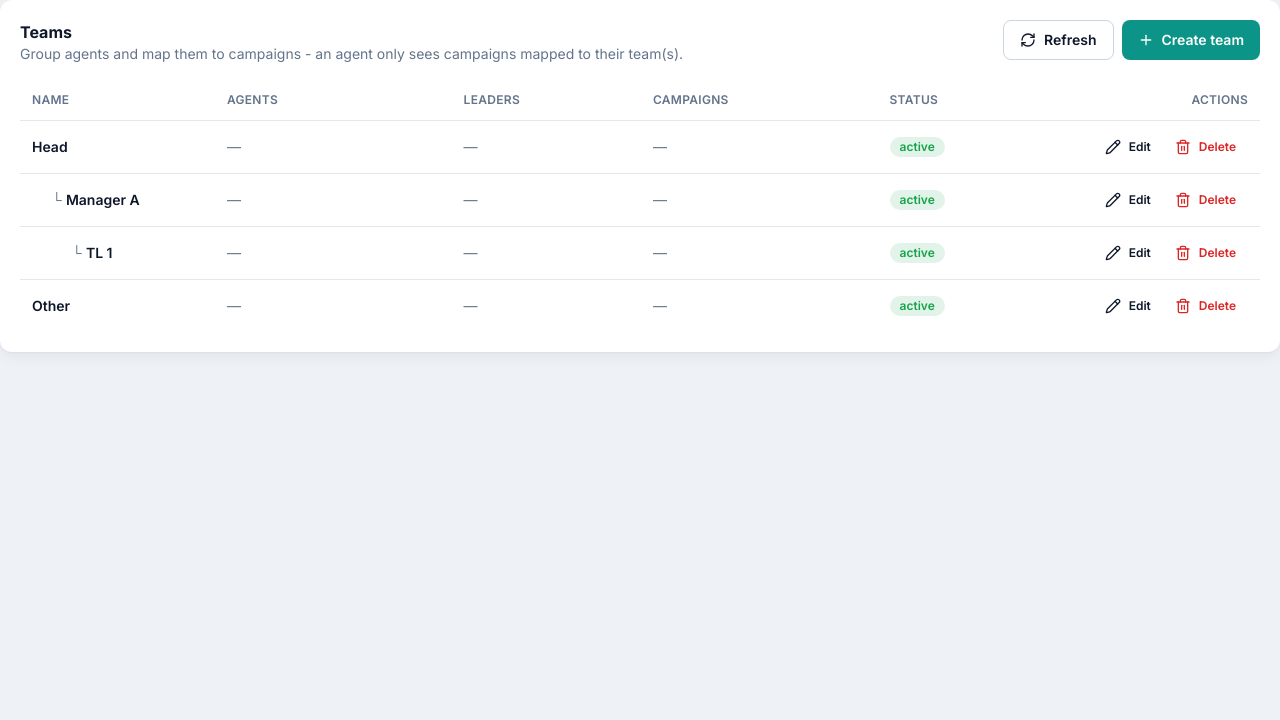
Scenario: Teams › shows teams as a tree and puts a team under a parent
This screenshot has width=1280, height=720.
Expected: the text "Head" is shown, [32, 136, 68, 156]
Step 1. Click the button with aria-label "Edit Manager A" → (1128, 200), box [1093, 184, 1163, 216]
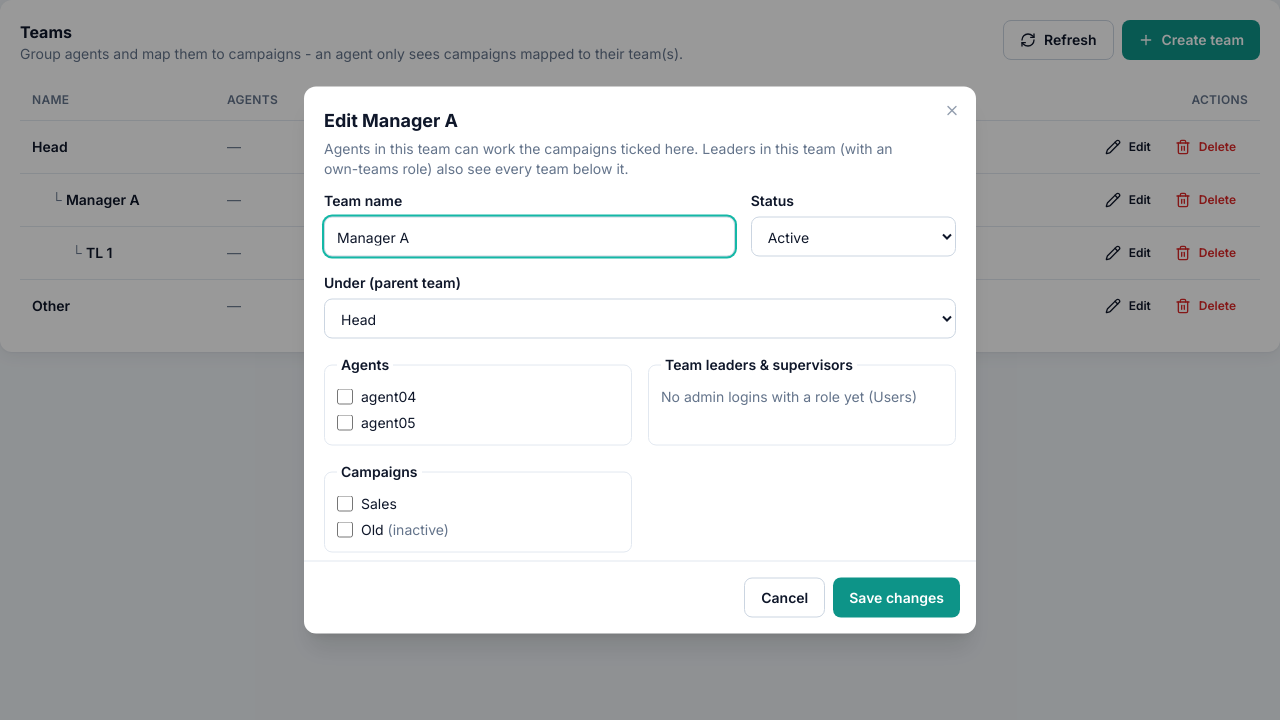
Now the dropdown labelled "Under (parent team)" shows "Head"
Step 2. Select "Other" in the dropdown labelled "Under (parent team)" → (640, 318), box [324, 298, 956, 338]
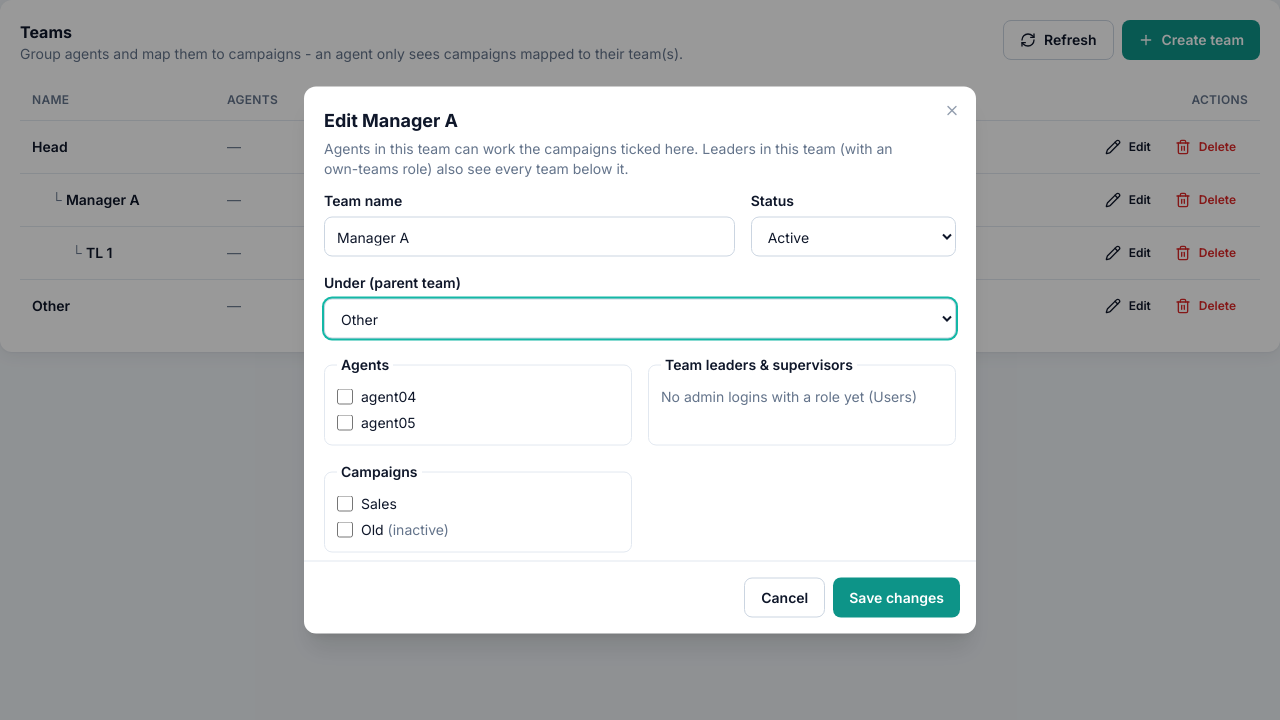
Step 3. Click the button "Save changes" → (897, 598), box [833, 578, 960, 618]
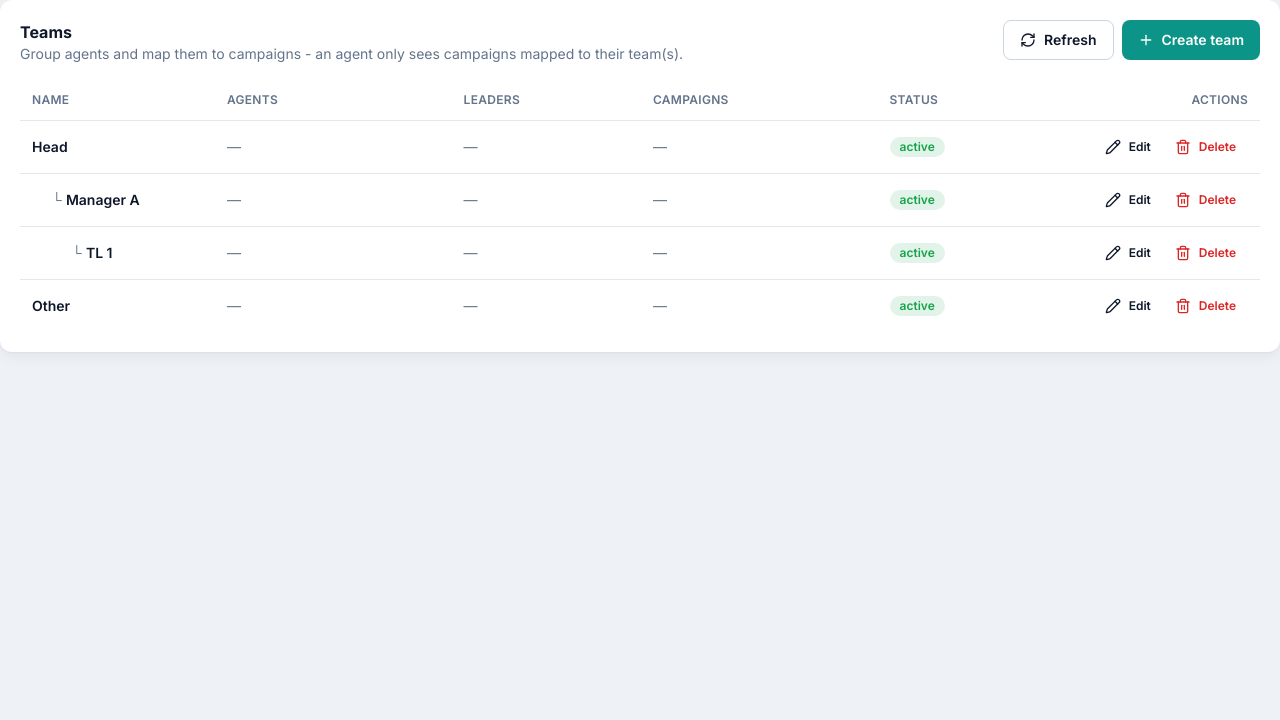
Now the dialog is gone
